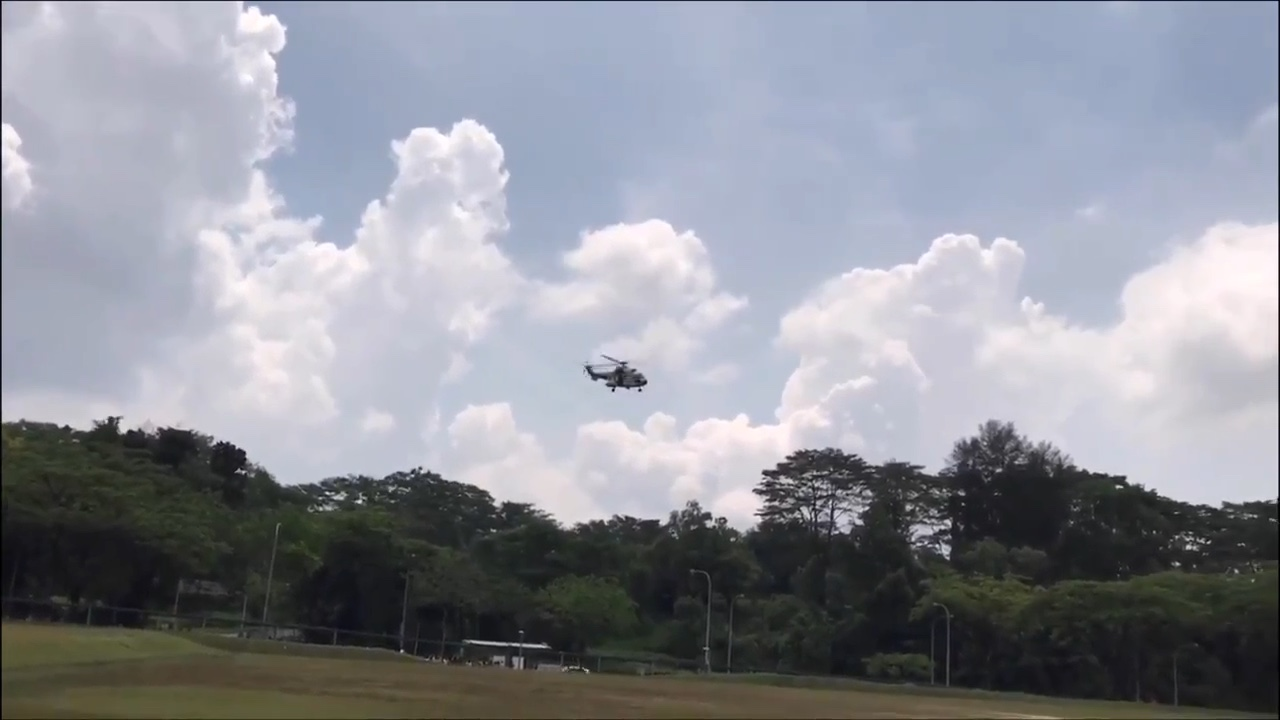cougar: (579, 352, 657, 395)
